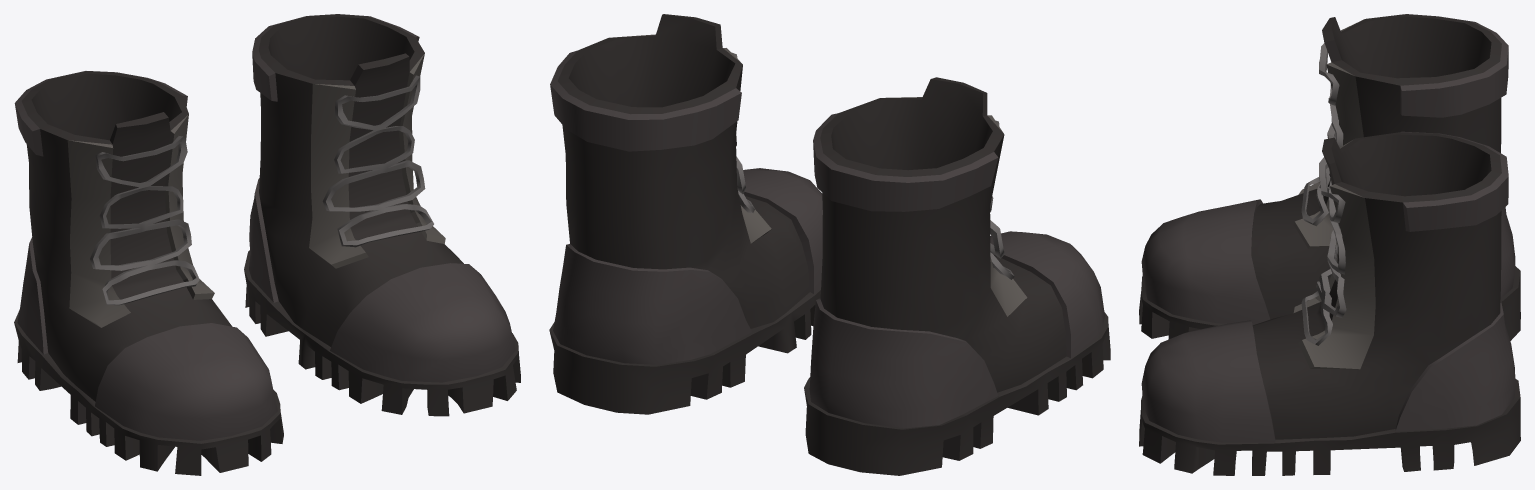
The model's file is Shoes_17_02.fbx.
3 renders of one model, left to right at view 1: azimuth 30°, elevation 25°; view 2: azimuth 150°, elevation 25°; view 3: azimuth 270°, elevation 25°, orthographic. The views are drawn at different scales.
Visible parts, largest first — view 1: Shoes_17_02; view 2: Shoes_17_02; view 3: Shoes_17_02.
Part boxes in pixels (x1,y1,x2,y2): Shoes_17_02: (14,14,520,475); Shoes_17_02: (549,14,1110,475); Shoes_17_02: (1139,14,1520,475).
Size of the model in its own units: 29.81 by 20.56 by 24.51.
